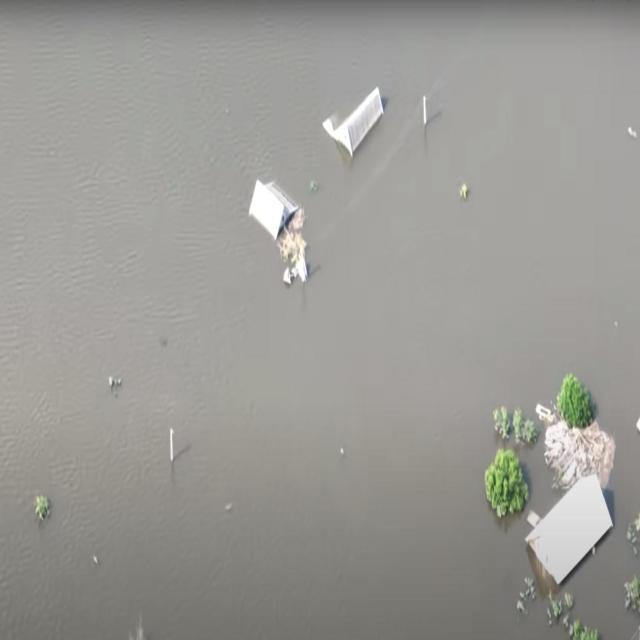flood: (220, 0, 640, 636), (0, 0, 292, 640)
house: (524, 472, 616, 588), (322, 68, 391, 185), (245, 169, 302, 246)
